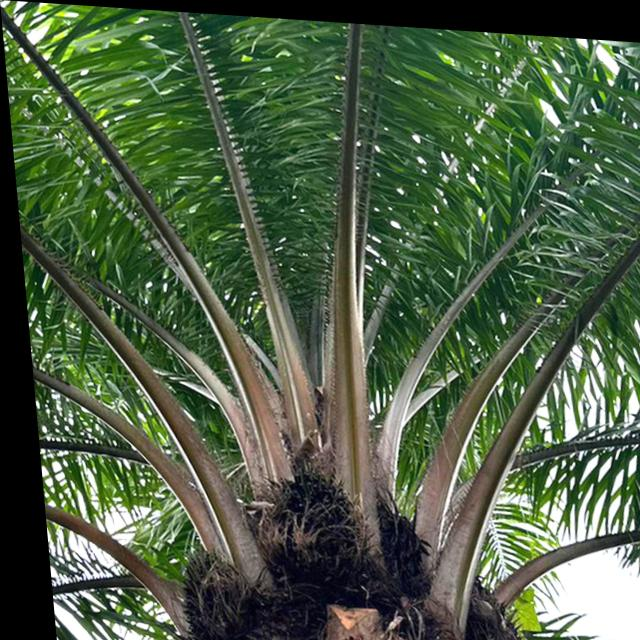unripe: (243, 451, 374, 586)
